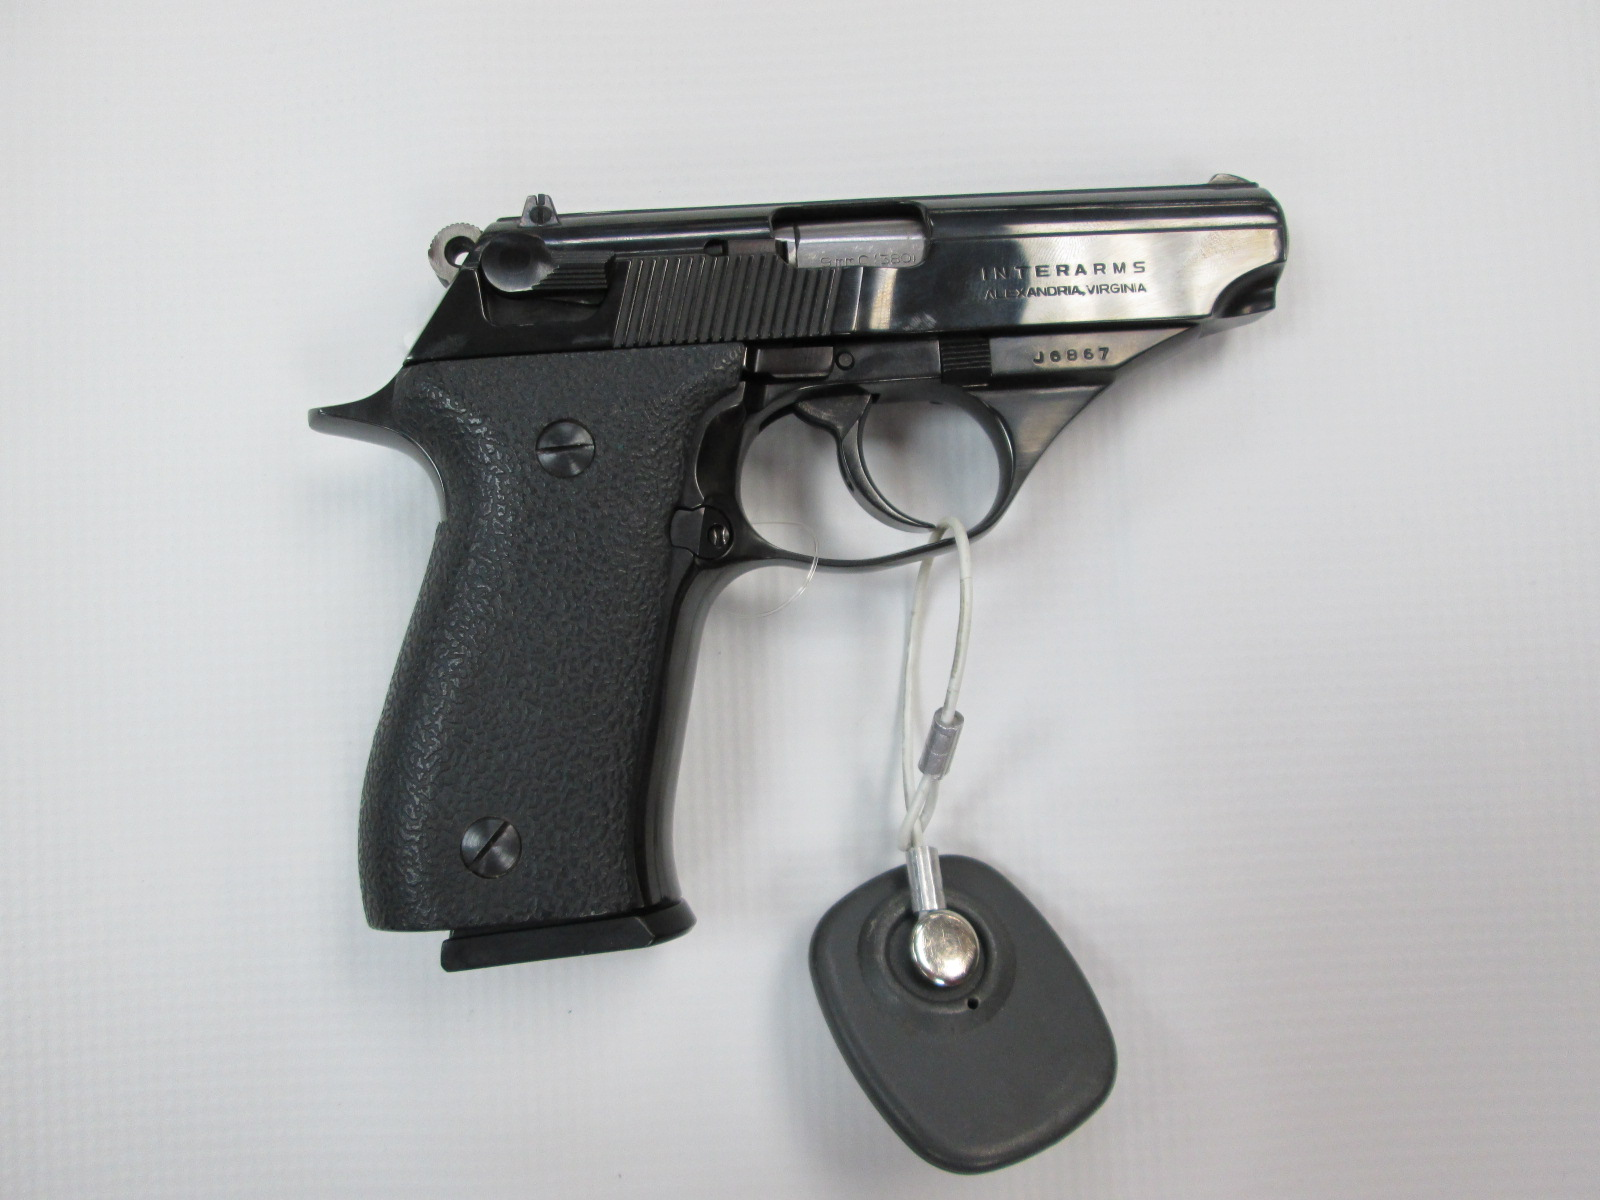gun: (317, 166, 1338, 1025)
